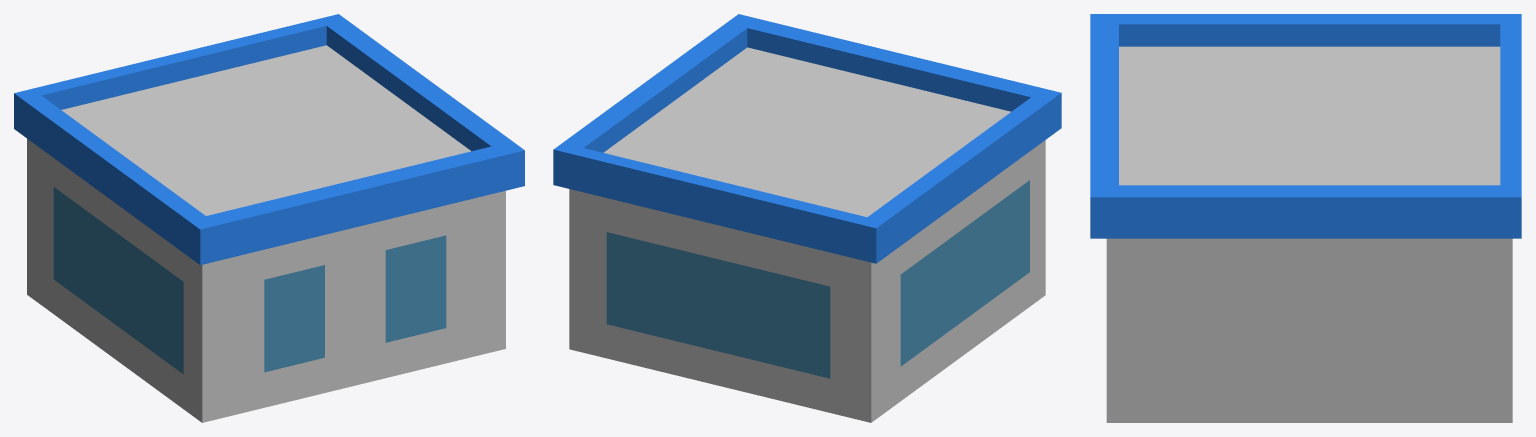
Rendered from shop_blue.glb.
The picture shows the model from 3 angles, left to right: view 1: azimuth 30°, elevation 25°; view 2: azimuth 150°, elevation 25°; view 3: azimuth 270°, elevation 25°; orthographic projection. The views are drawn at different scales.
Visible parts, largest first — view 1: building_small_orange; view 2: building_small_orange; view 3: building_small_orange.
Part boxes in pixels (x1,y1,x2,y2): building_small_orange: (14, 14, 524, 422); building_small_orange: (553, 14, 1061, 422); building_small_orange: (1090, 14, 1521, 422).
Bounding box in the file's own units: 11.48 × 6.78 × 11.41.
1 material, 1 textured.
